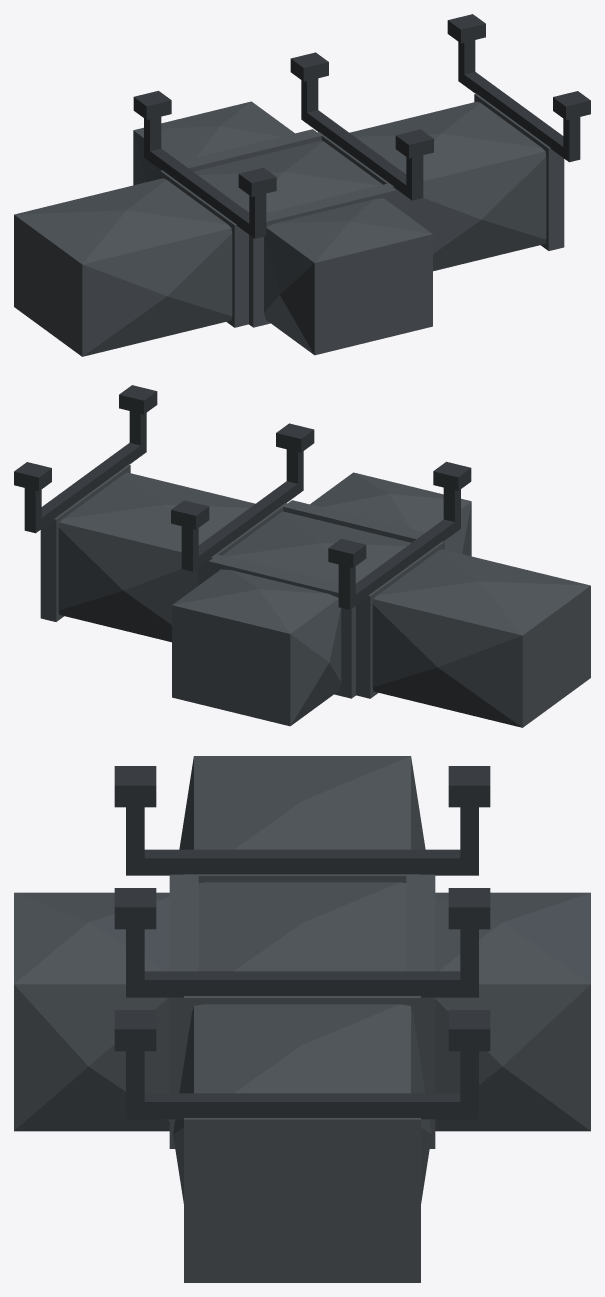
Rendered from SM_Prop_Ducting_02_Cross.glb.
3 views of the same model, one above another, from view 1: azimuth 30°, elevation 25°; view 2: azimuth 150°, elevation 25°; view 3: azimuth 270°, elevation 25° (orthographic). The views are drawn at different scales.
Visible parts, largest first — view 1: SM_Prop_Ducting_02_Cross; view 2: SM_Prop_Ducting_02_Cross; view 3: SM_Prop_Ducting_02_Cross.
Part boxes in pixels (<box>): SM_Prop_Ducting_02_Cross: <box>14,14,590,356</box>; SM_Prop_Ducting_02_Cross: <box>14,385,590,727</box>; SM_Prop_Ducting_02_Cross: <box>14,756,590,1282</box>.
Size of the model in its own units: 3.08 by 1.01 by 2.
Materials: 1 (1 with a texture image).
